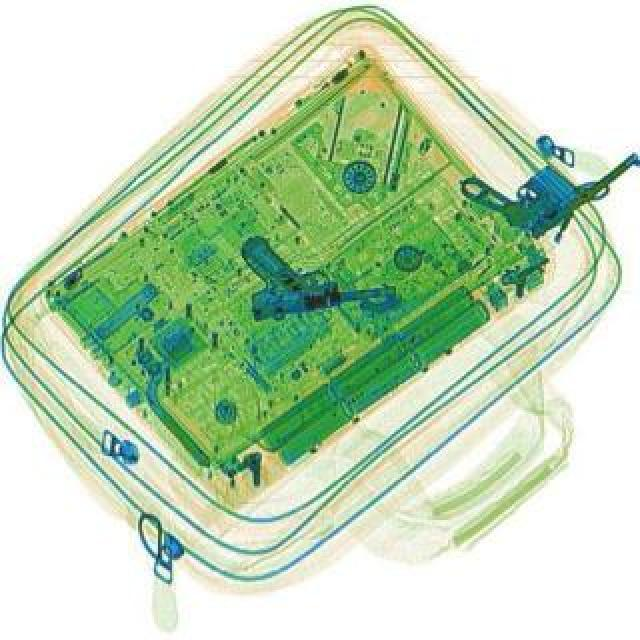gun: (456, 98, 638, 258), (236, 226, 396, 328)
